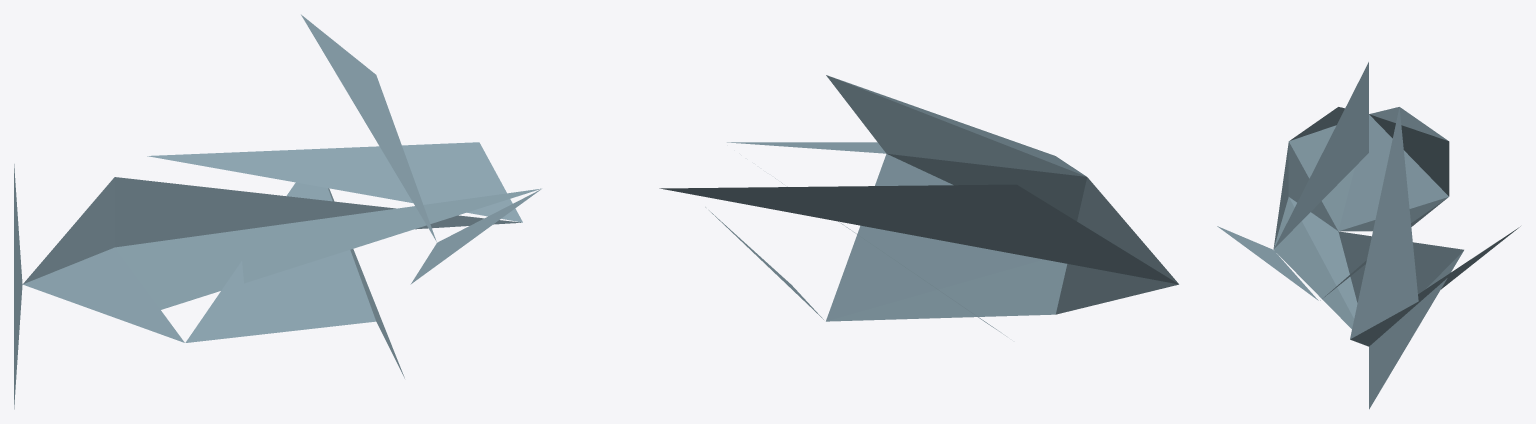
Rendered from jurel.glb.
The picture shows the model from 3 angles, left to right: view 1: azimuth 30°, elevation 25°; view 2: azimuth 150°, elevation 25°; view 3: azimuth 270°, elevation 25°; orthographic projection. The views are drawn at different scales.
Parts seen in each view (by area): view 1: jurel; view 2: jurel; view 3: jurel.
Boxes of the visible parts, left/top/right/bottom form: jurel: left=14, top=14, right=541, bottom=409; jurel: left=659, top=75, right=1178, bottom=336; jurel: left=1217, top=62, right=1520, bottom=409.
Bounding box in the file's own units: 1.36 × 0.89 × 0.8.
